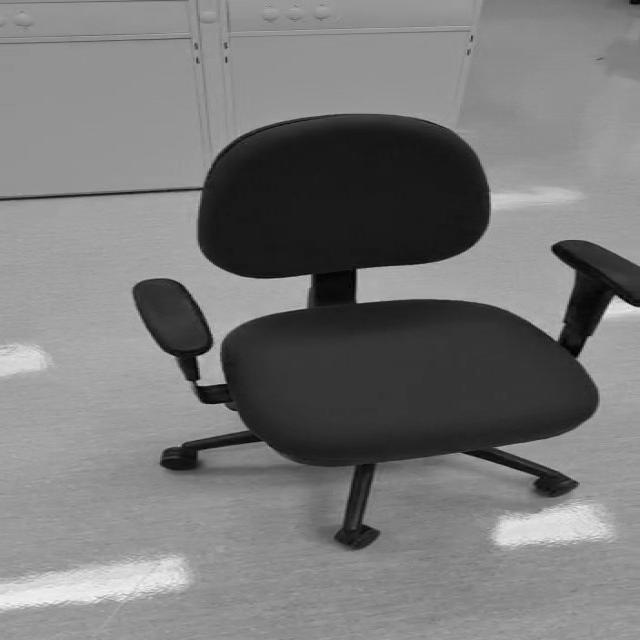cadeira-azul: (131, 114, 640, 548)
